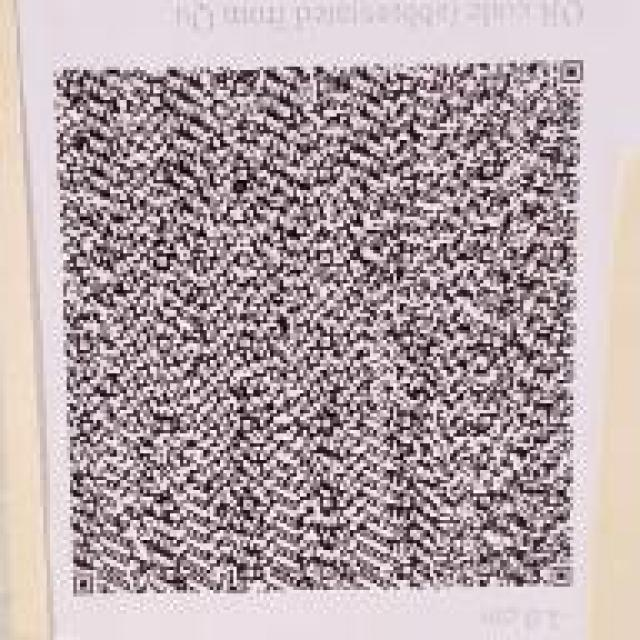QR_CODE: (30, 44, 597, 614)
